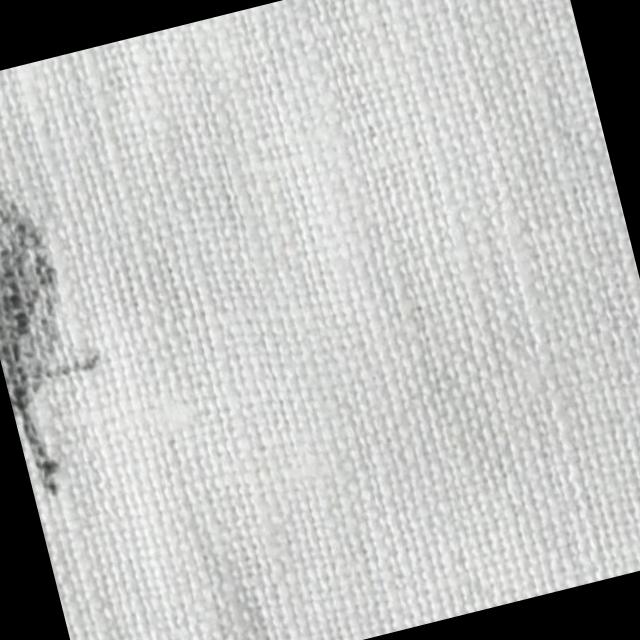Stain: (0, 161, 138, 506)
